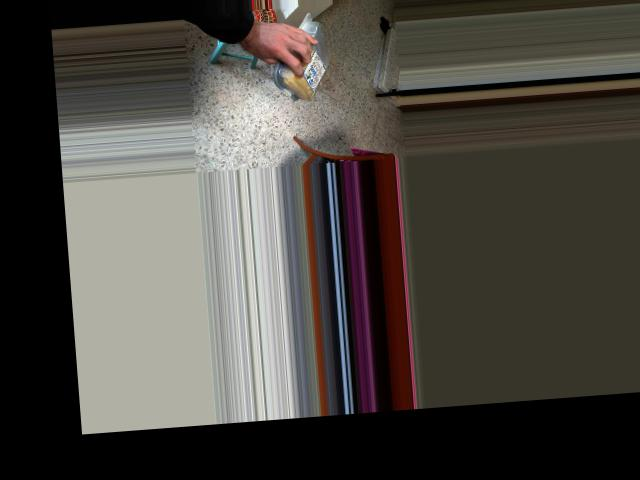cheese: (281, 17, 328, 109)
